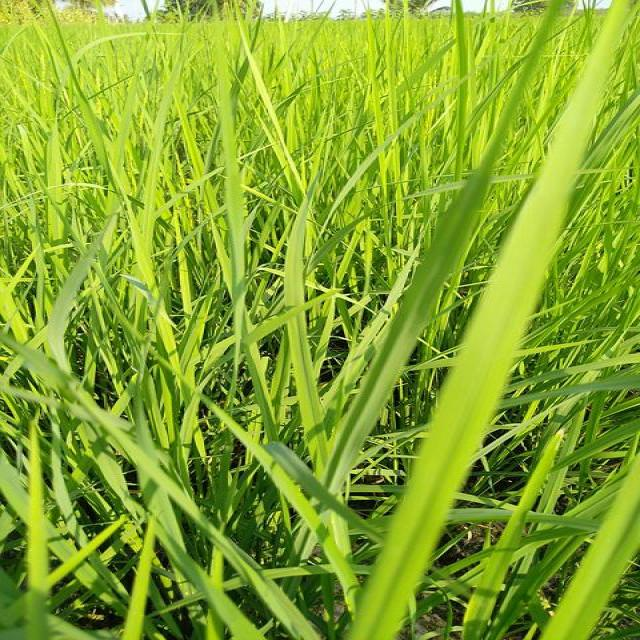Rice: (432, 0, 627, 435), (339, 435, 468, 640), (466, 434, 556, 638), (545, 461, 640, 640), (335, 261, 428, 437), (291, 193, 329, 462), (13, 428, 60, 640), (224, 53, 246, 415), (140, 208, 182, 372), (176, 97, 222, 219), (128, 514, 162, 640), (47, 114, 66, 253)
